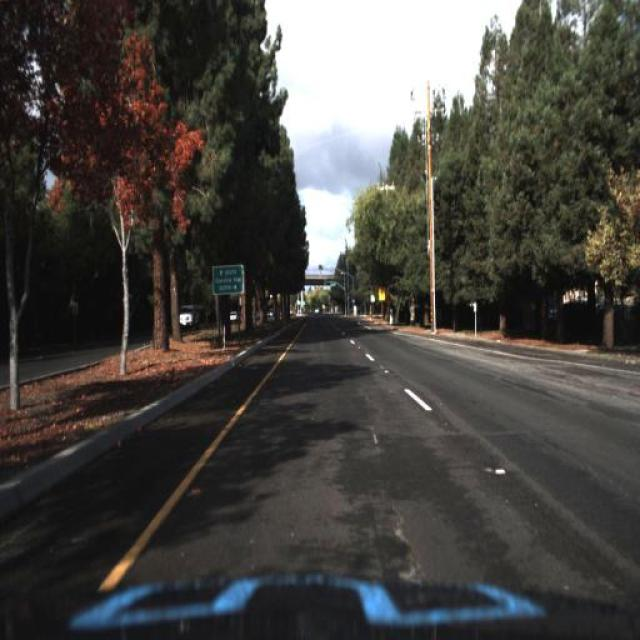car: (172, 298, 200, 332), (178, 298, 202, 332)
